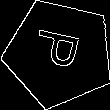P_E: (30, 30, 89, 77)
